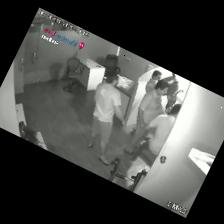person: (87, 74, 124, 165), (124, 80, 168, 153), (131, 104, 179, 160), (145, 70, 160, 92)
